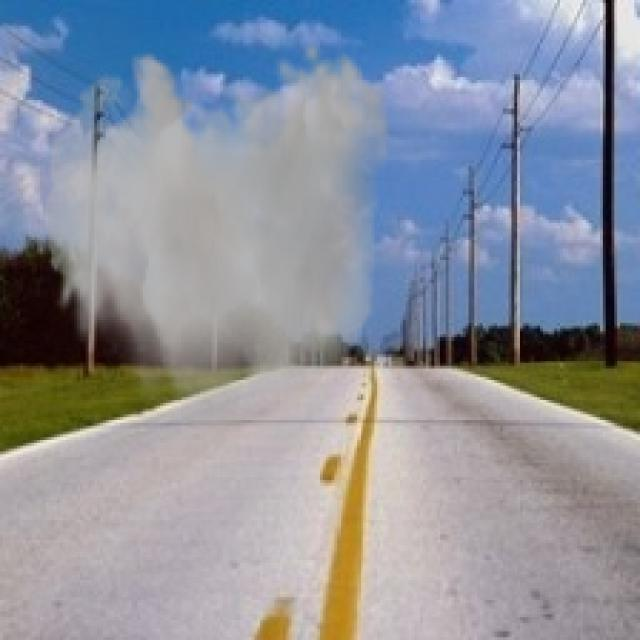smoke: (46, 40, 391, 454)
